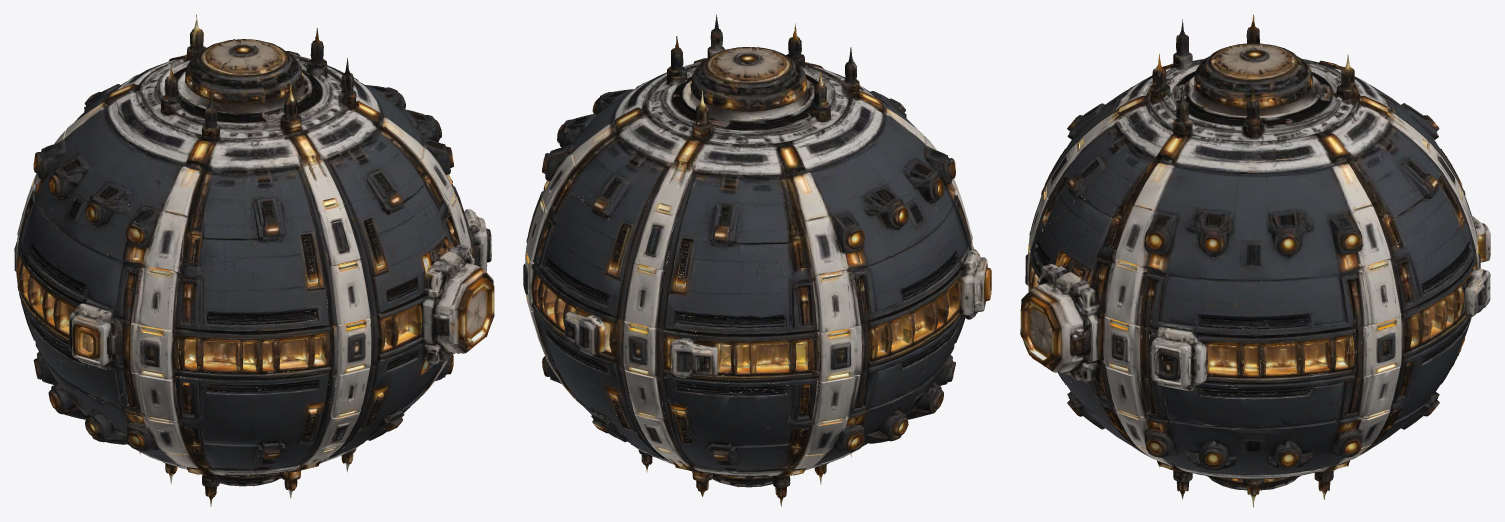
Rendered from orbital-lab-lod1.glb.
3 renders of one model, left to right at view 1: azimuth 30°, elevation 25°; view 2: azimuth 150°, elevation 25°; view 3: azimuth 270°, elevation 25°, orthographic.
Visible parts, largest first — view 1: node_0; view 2: node_0; view 3: node_0.
Boxes of the visible parts, <box> form: node_0: <box>14,14,494,506</box>; node_0: <box>523,14,991,506</box>; node_0: <box>1020,14,1490,507</box>.
Bounding box in the file's own units: 1.08 × 1.07 × 1.06.
1 material, 1 textured.
